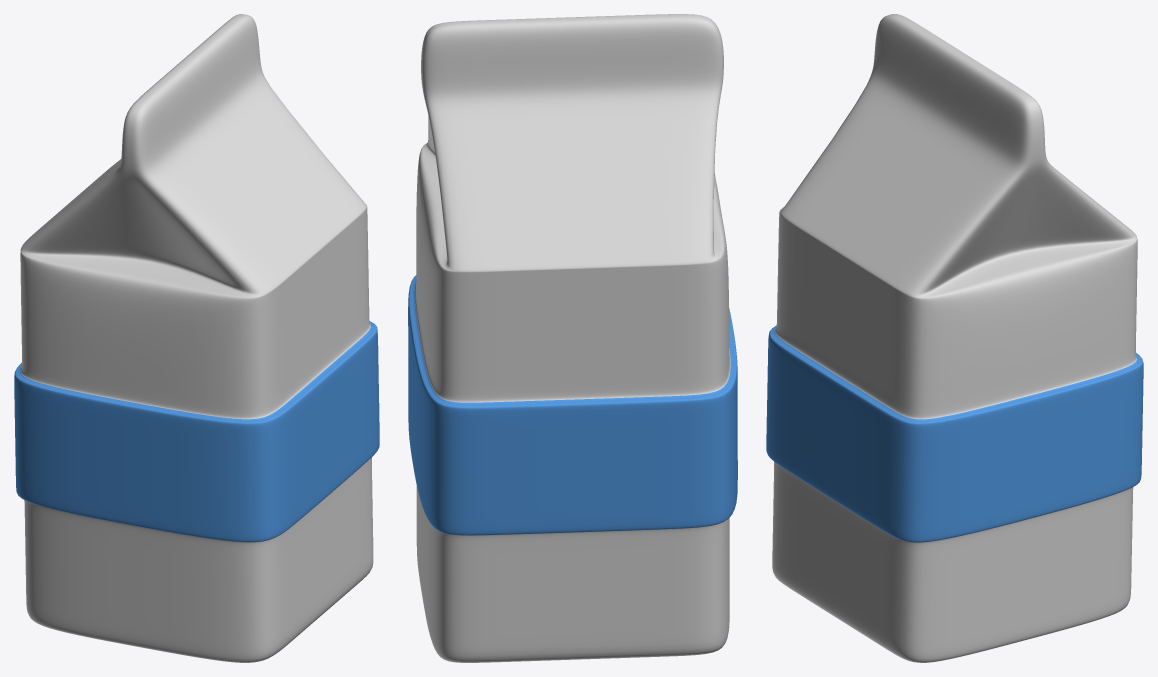
The model's file is BaggedMilk_Visual.fbx.
The picture shows the model from 3 angles, left to right: view 1: azimuth 30°, elevation 25°; view 2: azimuth 150°, elevation 25°; view 3: azimuth 270°, elevation 25°; orthographic projection. The views are drawn at different scales.
Parts seen in each view (by area): view 1: Cube.007; view 2: Cube.007; view 3: Cube.007.
Part boxes in pixels (left/top/right/bottom): Cube.007: left=14, top=14, right=379, bottom=662; Cube.007: left=408, top=14, right=737, bottom=662; Cube.007: left=766, top=14, right=1143, bottom=662.
Size of the model in its own units: 32.24 by 51.47 by 32.67.
